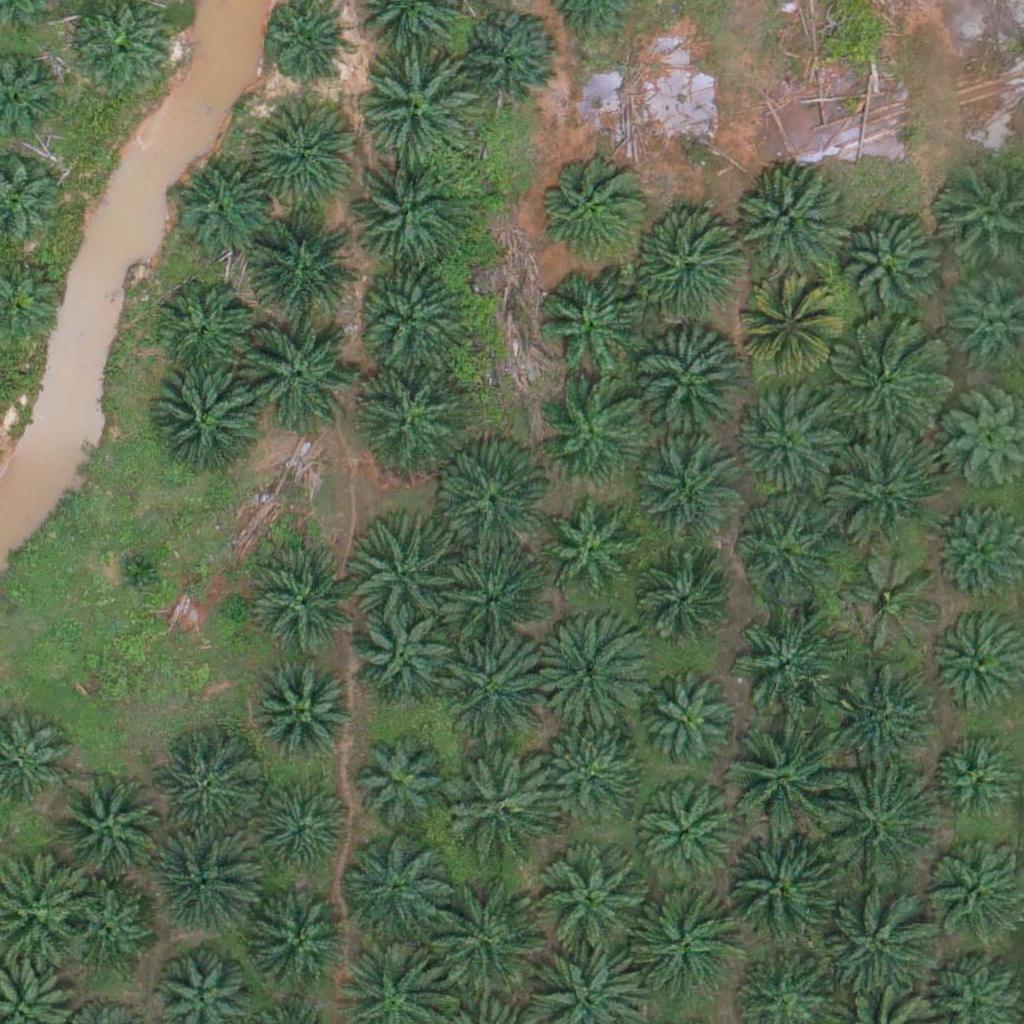Kelapa_Sawit: (725, 830, 838, 944), (532, 614, 645, 728), (441, 630, 554, 744), (358, 257, 471, 371), (349, 162, 462, 276), (247, 98, 360, 212), (819, 884, 932, 997), (822, 655, 935, 768), (826, 435, 939, 548), (830, 323, 943, 436), (724, 724, 837, 837), (633, 330, 746, 443), (627, 888, 740, 1001), (535, 272, 648, 385), (537, 849, 650, 962), (446, 748, 559, 861), (146, 369, 259, 482), (147, 827, 260, 940), (829, 211, 942, 324), (822, 769, 934, 883), (538, 377, 650, 491), (339, 831, 451, 945), (536, 149, 648, 263), (246, 206, 358, 320), (730, 603, 842, 716), (439, 452, 551, 565), (428, 881, 540, 994), (350, 360, 462, 473), (350, 508, 462, 621), (238, 317, 350, 430), (52, 771, 164, 884), (732, 168, 844, 281), (622, 212, 734, 325), (364, 53, 476, 166), (731, 389, 831, 490), (733, 501, 833, 602), (639, 446, 739, 547), (634, 786, 734, 887), (540, 501, 640, 602), (351, 736, 451, 837), (352, 606, 452, 707), (153, 279, 253, 380), (456, 6, 556, 107), (172, 159, 272, 260), (842, 551, 942, 651), (737, 283, 837, 383), (631, 560, 731, 660), (542, 733, 642, 833), (442, 549, 542, 649), (253, 557, 353, 657), (254, 666, 354, 766), (254, 782, 354, 882), (250, 898, 350, 998), (156, 742, 256, 842), (644, 680, 732, 769), (932, 741, 1020, 829), (64, 885, 152, 973), (111, 544, 161, 595)
